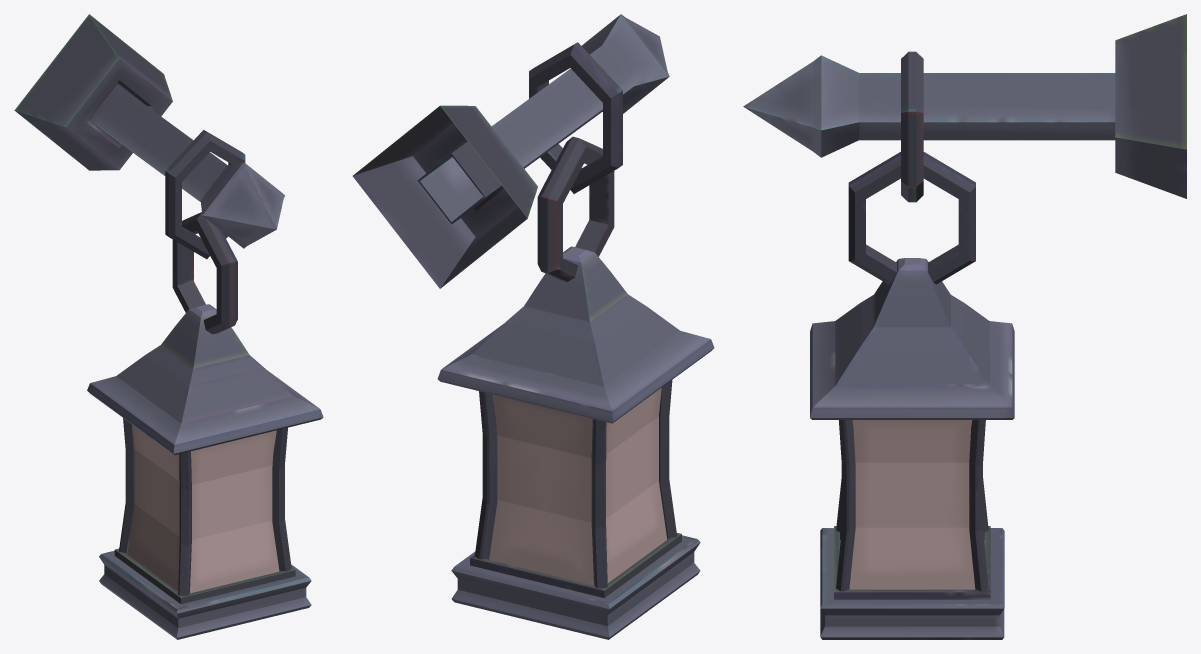
File: Lampiao de Parede 1.fbx
3 views of the same model, side by side, from view 1: azimuth 30°, elevation 25°; view 2: azimuth 150°, elevation 25°; view 3: azimuth 270°, elevation 25° (orthographic). The views are drawn at different scales.
Visible parts, largest first — view 1: Lampião de parede 1; view 2: Lampião de parede 1; view 3: Lampião de parede 1.
Boxes of the visible parts, <box> form: Lampião de parede 1: <box>14,14,323,639</box>; Lampião de parede 1: <box>352,14,714,639</box>; Lampião de parede 1: <box>743,14,1186,639</box>.
Size of the model in its own units: 24.26 by 76.86 by 52.59.
